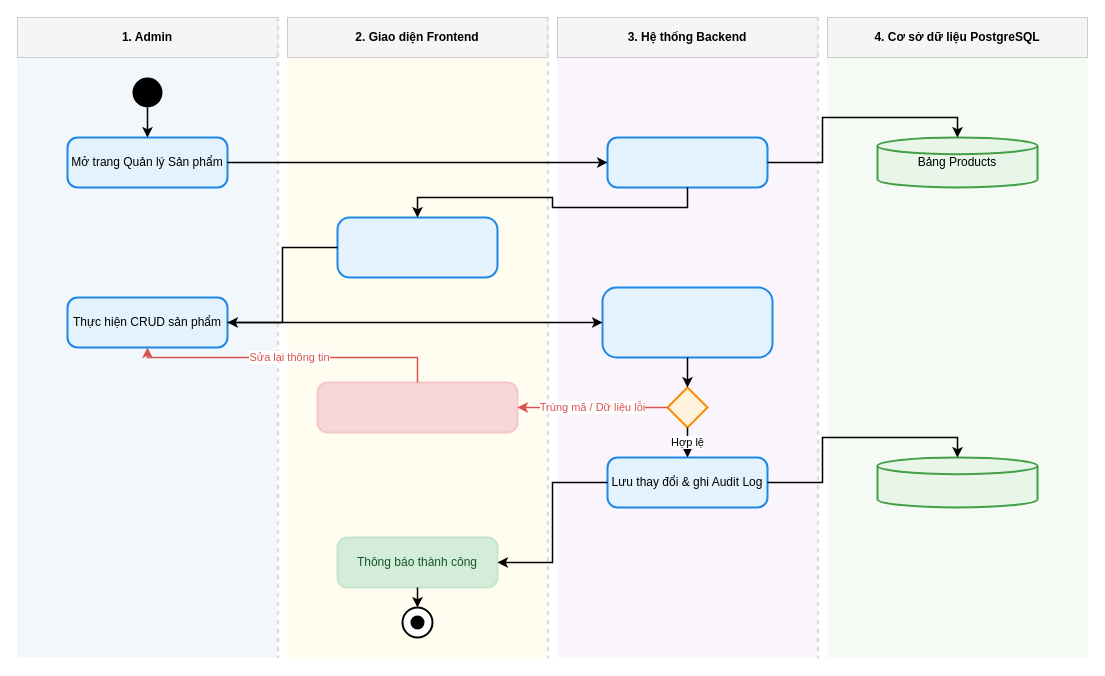
This 1105x676 diagram has some shape labels left out. The box of each missing label's shape, as (x1, y1, x2, y2) in pixels:
Báo lỗi trùng mã hoặc thông tin không hợp lệ: (316, 381, 518, 433)
Bảng Products & Audit_Logs: (876, 456, 1038, 508)
Hiển thị danh sách sản phẩm & các nút Thêm/Sửa/Xóa: (336, 216, 498, 278)
Kiểm tra ràng buộc: - Mã sản phẩm trùng lặp - Cấu hình Soft Delete khi xóa: (601, 286, 773, 358)
Lấy danh sách sản phẩm (lọc sản phẩm chưa xóa): (606, 136, 768, 188)
